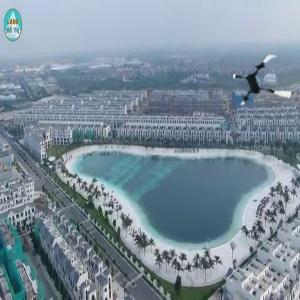drone: (234, 53, 296, 115)
